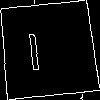I: (23, 24, 43, 71)
